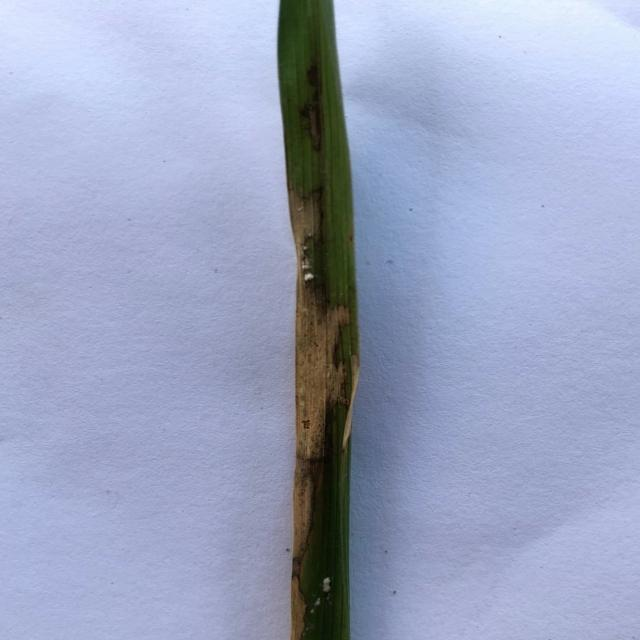leaf blight: (284, 183, 362, 461), (282, 463, 318, 640), (298, 52, 331, 154)
